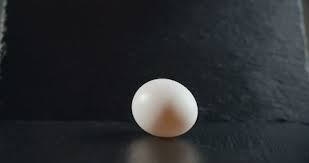egg: (132, 77, 198, 137)
